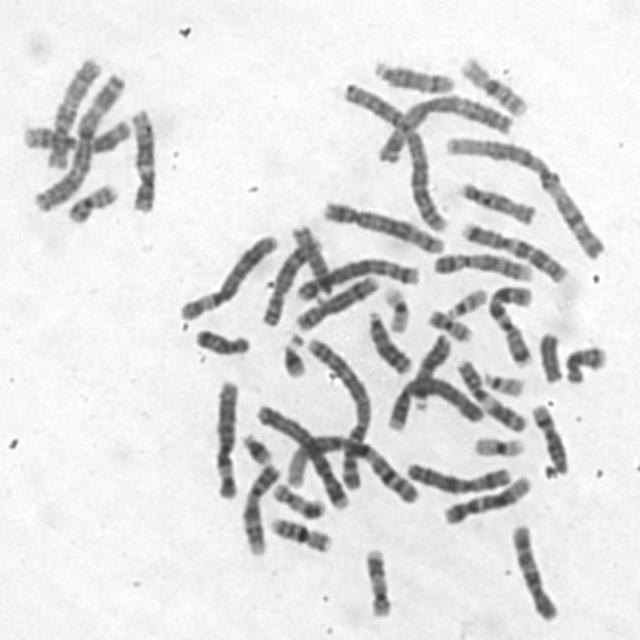A1: (442, 128, 608, 262), (280, 428, 422, 506)
A2: (338, 77, 451, 235), (299, 332, 371, 490)
A3: (28, 66, 129, 215), (372, 89, 516, 165)
B4: (250, 398, 352, 512), (384, 370, 487, 432)
B5: (316, 196, 446, 255), (291, 252, 424, 303)
C10: (42, 52, 102, 172), (505, 517, 561, 625)
C11: (451, 353, 532, 435), (18, 112, 134, 155)
C12: (439, 469, 534, 527), (125, 104, 160, 215)
C6: (176, 229, 282, 323), (208, 374, 240, 502)
C7: (455, 216, 572, 285), (483, 279, 536, 369)
C8: (256, 230, 324, 328), (290, 270, 381, 333)
C9: (236, 457, 282, 558), (427, 246, 534, 283)
D13: (364, 304, 417, 376), (410, 329, 454, 412)
D14: (369, 54, 457, 96), (527, 399, 571, 477)
D15: (454, 175, 540, 227), (287, 220, 338, 298)
E16: (454, 51, 529, 118), (264, 511, 336, 555)
E17: (358, 542, 394, 620), (267, 476, 329, 520)
E18: (189, 322, 253, 358), (561, 340, 610, 386)
F19: (378, 279, 413, 334), (468, 430, 528, 459)
F20: (62, 178, 121, 225), (422, 302, 475, 343)
G21: (277, 327, 309, 381), (237, 426, 276, 466)
G22: (440, 282, 490, 320), (478, 365, 527, 398)
X: (400, 456, 514, 496)
Y: (532, 327, 564, 385)
